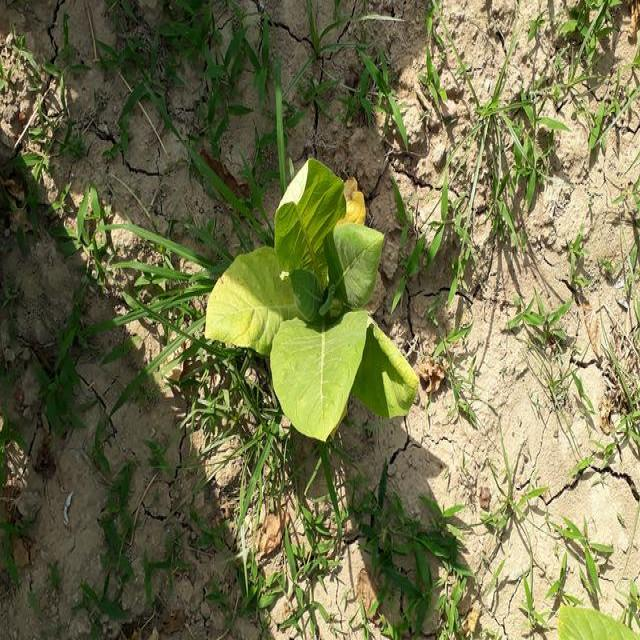crop: (208, 154, 420, 436)
